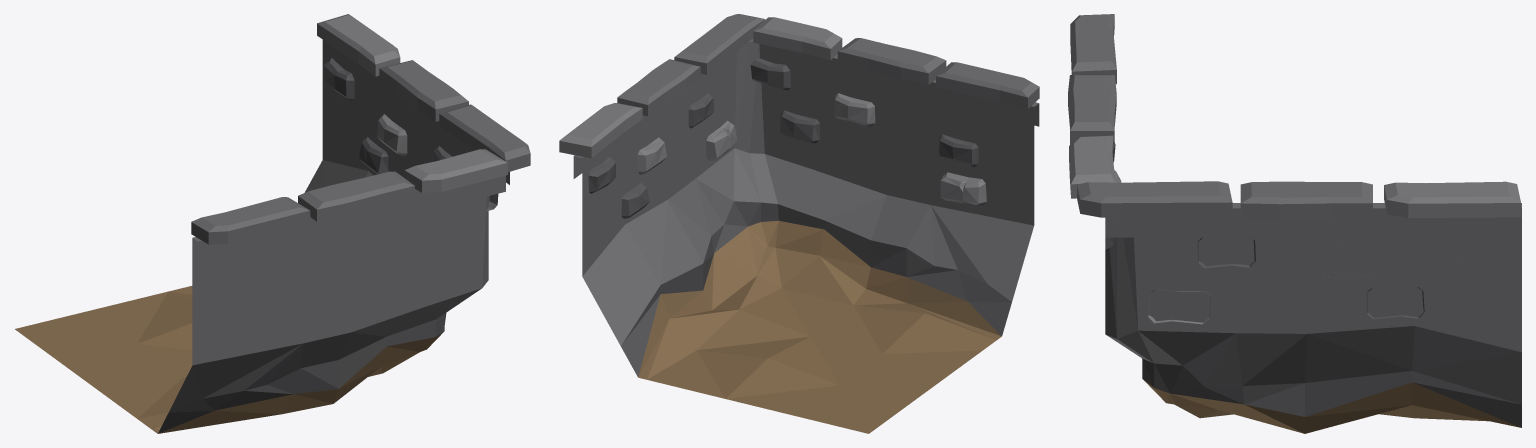
The model's file is SM_Env_Canal_02.gltf.
3 renders of one model, left to right at view 1: azimuth 30°, elevation 25°; view 2: azimuth 150°, elevation 25°; view 3: azimuth 270°, elevation 25°, orthographic. The views are drawn at different scales.
Parts seen in each view (by area): view 1: SM_Env_Canal_02; view 2: SM_Env_Canal_02; view 3: SM_Env_Canal_02.
Boxes of the visible parts, <box> form: SM_Env_Canal_02: <box>15,14,530,433</box>; SM_Env_Canal_02: <box>559,14,1039,433</box>; SM_Env_Canal_02: <box>1068,14,1521,433</box>.
Bounding box in the file's own units: 3.17 × 2.14 × 3.17.
1 material, 1 textured.
